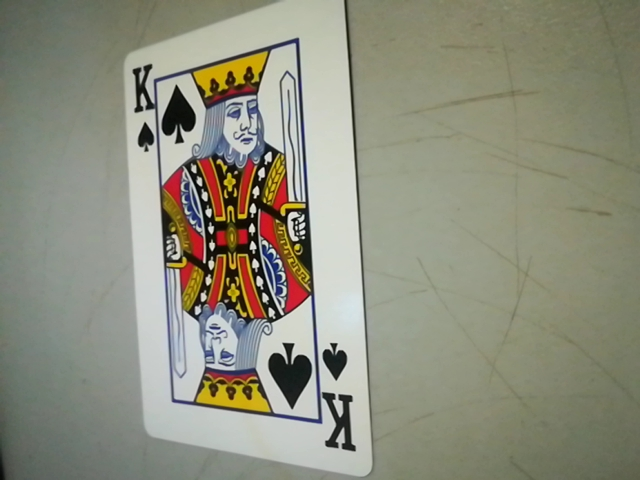ht k: (315, 330, 366, 468)
